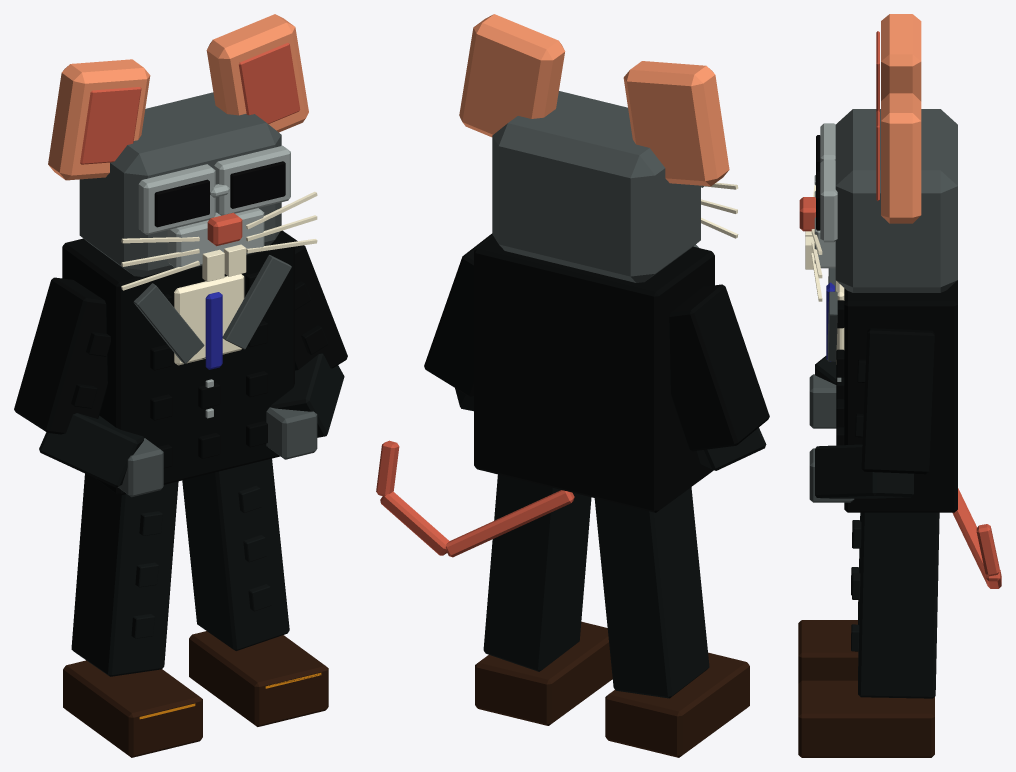
The model's file is TimCheese.glb.
3 renders of one model, left to right at view 1: azimuth 30°, elevation 25°; view 2: azimuth 150°, elevation 25°; view 3: azimuth 270°, elevation 25°, orthographic. The views are drawn at different scales.
Visible parts, largest first — view 1: TimCheese; view 2: TimCheese; view 3: TimCheese.
Boxes of the visible parts, bbox=[...] form: TimCheese: bbox=[14, 14, 347, 757]; TimCheese: bbox=[376, 14, 769, 757]; TimCheese: bbox=[798, 14, 1001, 757].
Bounding box in the file's own units: 2.51 × 5 × 1.42.
Materials: 1 (1 with a texture image).
